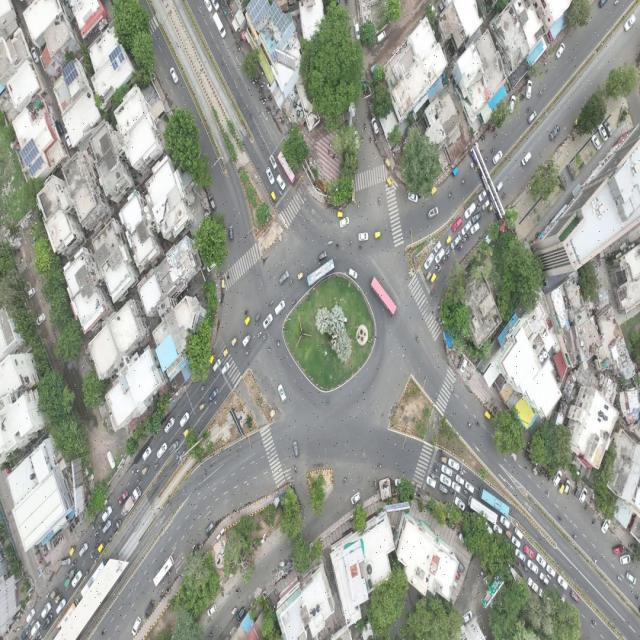3W: (196, 397, 208, 413), (49, 583, 59, 600), (53, 591, 64, 606), (67, 566, 78, 581), (95, 539, 106, 554), (68, 543, 78, 559), (141, 462, 151, 478), (429, 182, 439, 198), (503, 526, 513, 541), (270, 188, 278, 205), (451, 163, 460, 178), (437, 454, 448, 466), (384, 155, 392, 171), (373, 227, 382, 241), (429, 272, 438, 286), (483, 407, 492, 421), (573, 116, 583, 128), (63, 577, 72, 590), (230, 334, 239, 347), (183, 425, 191, 439), (208, 352, 216, 366), (557, 483, 566, 495), (425, 269, 432, 284), (573, 485, 580, 500), (445, 234, 453, 247), (220, 274, 226, 291), (223, 346, 232, 357), (386, 176, 393, 190), (244, 314, 251, 327), (255, 311, 262, 324), (297, 269, 304, 282), (336, 209, 344, 219), (488, 203, 494, 215)
Bus: (368, 272, 399, 320), (80, 552, 108, 600), (479, 484, 511, 518), (305, 256, 336, 291), (56, 594, 80, 637), (467, 495, 499, 526), (276, 146, 298, 188), (152, 554, 176, 592)
Cars: (463, 199, 478, 221), (505, 91, 518, 116), (70, 567, 83, 590), (29, 616, 42, 638), (40, 599, 53, 621), (131, 611, 142, 637), (144, 598, 157, 620), (277, 380, 288, 406), (224, 217, 235, 243), (235, 605, 247, 628), (264, 164, 276, 187), (550, 122, 562, 145), (41, 611, 54, 632), (526, 108, 539, 128), (623, 14, 636, 34), (597, 121, 609, 142), (345, 262, 358, 281), (555, 40, 566, 62), (262, 312, 274, 332), (336, 215, 351, 231), (54, 597, 67, 615), (521, 151, 534, 169), (290, 438, 301, 459), (578, 484, 588, 507), (20, 621, 32, 640), (117, 489, 129, 508), (179, 410, 191, 429), (208, 385, 220, 404), (278, 268, 290, 287), (352, 128, 361, 153), (274, 299, 287, 316), (25, 605, 36, 625), (211, 354, 222, 374), (207, 190, 217, 212), (434, 245, 445, 265), (601, 515, 611, 537), (156, 441, 168, 459), (203, 520, 215, 538), (591, 134, 603, 152), (535, 552, 547, 570), (352, 22, 362, 43), (164, 416, 175, 435), (423, 252, 434, 271), (526, 560, 539, 576), (515, 548, 528, 564), (448, 456, 461, 472), (78, 541, 90, 558), (492, 150, 504, 167), (460, 219, 472, 236), (451, 216, 463, 233), (625, 570, 637, 587), (168, 438, 179, 456), (275, 174, 286, 192), (427, 205, 440, 220), (438, 474, 451, 489), (349, 491, 362, 506), (206, 604, 218, 620), (557, 575, 569, 591), (524, 545, 536, 561), (499, 513, 511, 529), (464, 480, 476, 496), (221, 358, 231, 377), (359, 77, 369, 96), (553, 469, 563, 488), (112, 517, 123, 534), (450, 234, 461, 251), (356, 230, 369, 244), (406, 190, 419, 204), (102, 504, 112, 522), (604, 119, 614, 137), (459, 356, 468, 376), (141, 445, 152, 461), (494, 180, 505, 196), (470, 220, 481, 236), (563, 475, 571, 497), (454, 496, 465, 512), (426, 474, 437, 490), (371, 117, 380, 136), (103, 518, 113, 535), (525, 79, 533, 100), (545, 563, 557, 577), (441, 463, 453, 477), (376, 29, 387, 44), (451, 481, 462, 496), (319, 248, 329, 264), (482, 197, 492, 213), (570, 588, 580, 604), (613, 544, 625, 557), (619, 554, 631, 567), (437, 483, 449, 496), (511, 535, 521, 550), (60, 556, 72, 568), (209, 0, 221, 12), (269, 154, 278, 170), (492, 523, 504, 535), (202, 0, 213, 13), (471, 211, 482, 224), (478, 189, 488, 203), (539, 572, 549, 586), (434, 237, 442, 254), (514, 526, 523, 541), (455, 472, 465, 485), (597, 0, 607, 12)
LCV: (212, 8, 228, 41), (525, 575, 541, 596), (240, 331, 254, 347)
M2W: (233, 585, 242, 600), (341, 476, 351, 488), (292, 461, 298, 476), (44, 588, 51, 600), (414, 335, 422, 345), (374, 462, 384, 470), (208, 627, 214, 640), (266, 344, 273, 355), (465, 421, 474, 429), (191, 543, 197, 555), (245, 347, 252, 357), (327, 237, 334, 247), (537, 88, 544, 98), (571, 532, 578, 542), (616, 574, 623, 584), (372, 477, 378, 488), (291, 296, 298, 305), (287, 277, 294, 286), (335, 241, 342, 250), (448, 189, 455, 198), (474, 419, 481, 428), (462, 487, 469, 496), (448, 487, 455, 496), (324, 399, 331, 408), (275, 337, 281, 347), (243, 307, 249, 317), (347, 237, 353, 247), (377, 195, 382, 207), (475, 202, 481, 212), (449, 385, 455, 395), (591, 518, 597, 528), (631, 552, 636, 564), (167, 567, 173, 577), (166, 577, 172, 587), (268, 299, 275, 307), (357, 242, 364, 250), (429, 288, 436, 296), (591, 557, 599, 564), (39, 556, 45, 565), (34, 548, 40, 557), (83, 568, 89, 577), (94, 555, 100, 564), (136, 475, 142, 484), (257, 330, 263, 339), (262, 334, 268, 343), (491, 145, 497, 154), (546, 572, 552, 581), (430, 471, 436, 480), (71, 521, 76, 531), (501, 191, 506, 201), (93, 544, 100, 551), (613, 0, 620, 7), (556, 515, 563, 522), (437, 448, 444, 455), (88, 553, 96, 559), (134, 469, 140, 477), (154, 462, 160, 470), (263, 104, 269, 112), (369, 134, 373, 146), (460, 177, 466, 185), (483, 155, 489, 163), (466, 234, 472, 242), (591, 619, 597, 627), (523, 566, 529, 574), (68, 526, 73, 535), (520, 94, 525, 103), (526, 105, 531, 114), (437, 265, 442, 274), (584, 502, 589, 511), (227, 270, 231, 281), (360, 134, 364, 145), (91, 523, 97, 530), (98, 523, 104, 530), (107, 537, 114, 543), (544, 491, 551, 497), (628, 542, 635, 548), (519, 561, 526, 567), (432, 468, 439, 474), (435, 462, 441, 469), (60, 533, 64, 543), (65, 571, 70, 579), (200, 385, 205, 393), (278, 188, 283, 196), (363, 122, 367, 132), (445, 253, 450, 261), (441, 255, 445, 265), (47, 559, 51, 568), (52, 540, 56, 549), (74, 518, 78, 527), (72, 561, 78, 567), (235, 47, 241, 53), (252, 79, 258, 85), (267, 106, 271, 115), (545, 470, 549, 479), (624, 548, 630, 554), (94, 531, 101, 536), (262, 98, 267, 105), (494, 132, 499, 139), (459, 244, 464, 251), (435, 263, 440, 270), (76, 517, 80, 525), (456, 243, 460, 251), (446, 249, 450, 257), (55, 536, 58, 546), (58, 535, 61, 545), (95, 537, 101, 542), (375, 137, 378, 147), (464, 232, 469, 238), (461, 238, 467, 243), (542, 468, 545, 478), (548, 474, 551, 484), (459, 470, 464, 476), (132, 468, 136, 475), (520, 88, 524, 95), (538, 470, 542, 477), (258, 88, 263, 93), (266, 95, 271, 100), (259, 92, 265, 96), (271, 106, 275, 112), (275, 109, 279, 115), (526, 453, 529, 461), (254, 82, 259, 86), (257, 86, 261, 91), (261, 82, 265, 87), (536, 461, 538, 470), (525, 451, 527, 459), (258, 99, 263, 101)
Truck: (120, 484, 145, 521)
